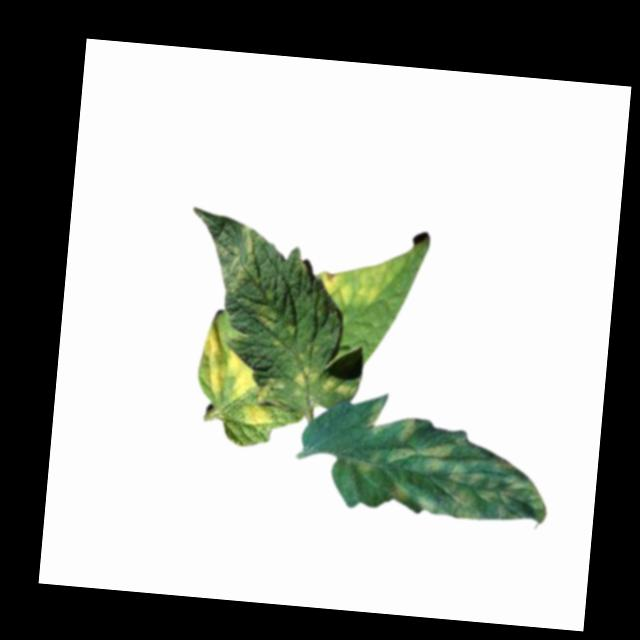Leaf_Mold: (348, 417, 554, 525), (190, 326, 281, 428), (313, 244, 407, 310), (210, 220, 264, 293), (292, 365, 356, 399)
